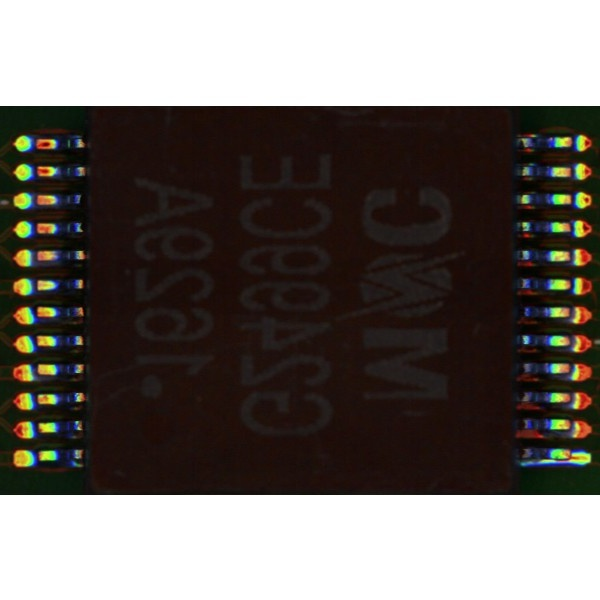Bad_podu: (566, 454, 582, 461)
Bad_qiaojiao: (518, 460, 570, 466)
